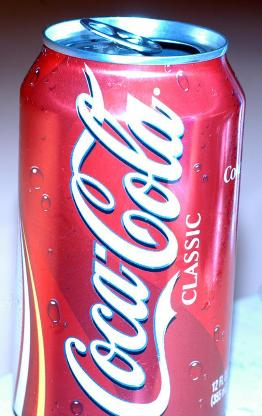Can: (12, 11, 250, 415)
